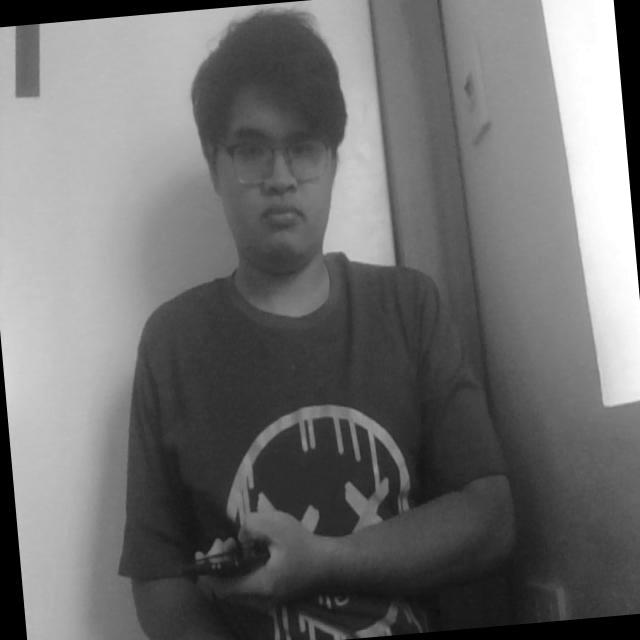phone: (185, 513, 282, 600)
